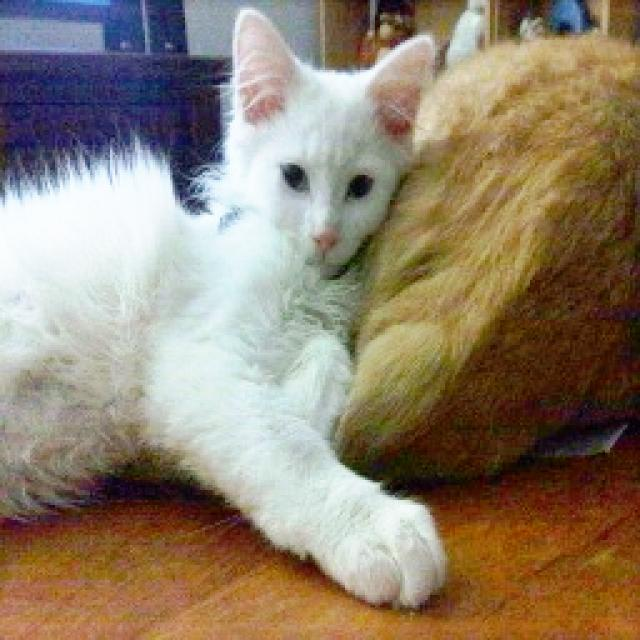cat: (0, 9, 462, 613), (387, 33, 640, 486)
